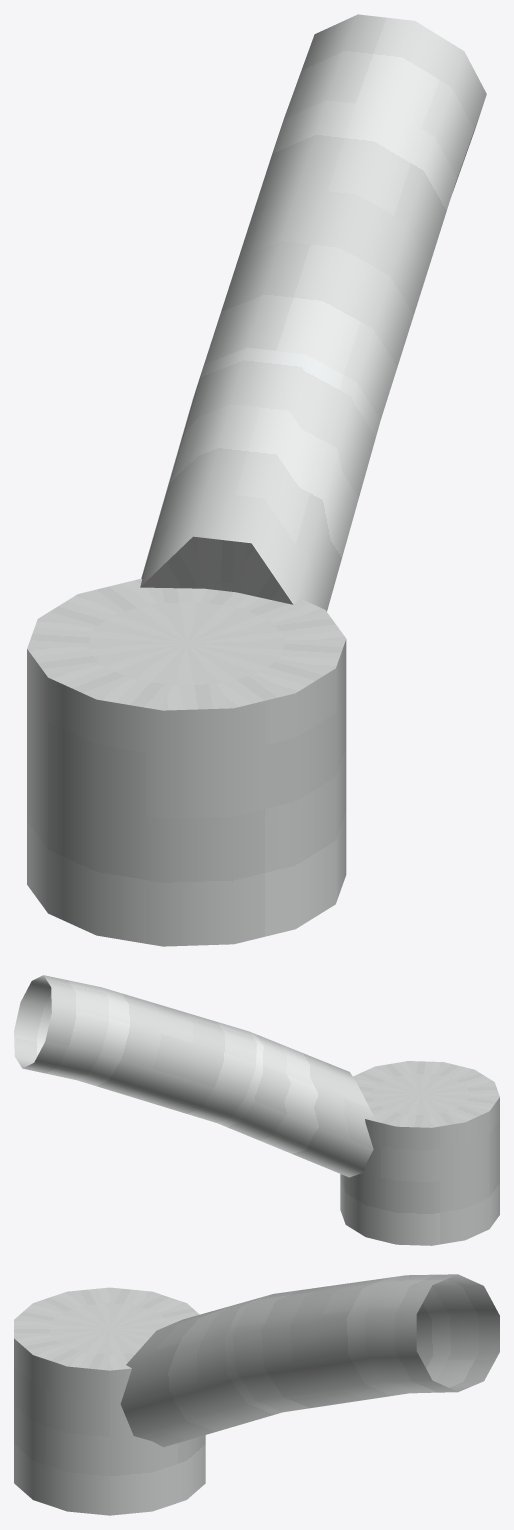
The model's file is nycsignalarm_diagonal12_c1_thin.obj.
3 views of the same model, one above another, from view 1: azimuth 30°, elevation 25°; view 2: azimuth 150°, elevation 25°; view 3: azimuth 270°, elevation 25° (orthographic). The views are drawn at different scales.
Visible parts, largest first — view 1: nycsignalarm_diagonal12_c1_thin; view 2: nycsignalarm_diagonal12_c1_thin; view 3: nycsignalarm_diagonal12_c1_thin.
Boxes of the visible parts, x1=… form: nycsignalarm_diagonal12_c1_thin: x1=27, y1=14, x2=486, y2=946; nycsignalarm_diagonal12_c1_thin: x1=14, y1=975, x2=499, y2=1245; nycsignalarm_diagonal12_c1_thin: x1=14, y1=1274, x2=499, y2=1515.
Bounding box in the file's own units: 1.41 × 1.07 × 1.4.
